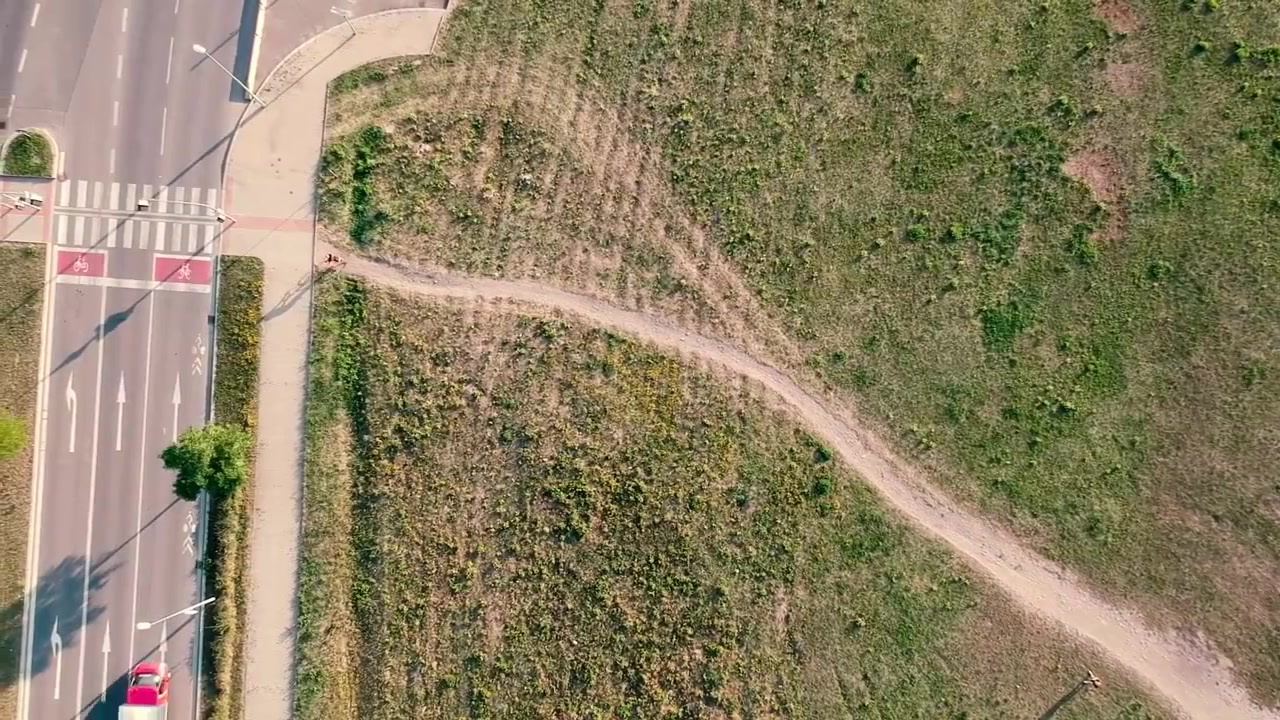car: (113, 660, 174, 720)
